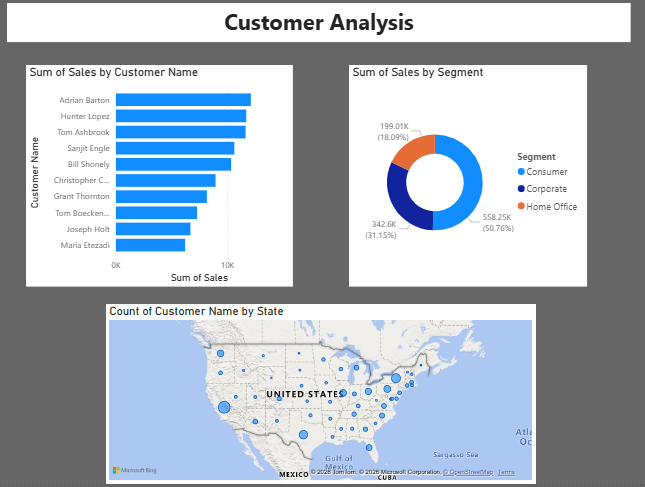

The page's visual inventory and layout, read from the dashboard file:
{"tool":"powerbi","page":{"name":"Customer Analyis","canvas":[960,720],"ordinal":4},"visuals":[{"type":"clusteredBarChart","fields":{"Category":["Sample - Superstore.Customer Name"],"Y":["Sum(Sample - Superstore.Sales)"]},"box":[47.9,109.3,389.4,323.5],"z":0},{"type":"donutChart","fields":{"Category":["Sample - Superstore.Segment"],"Y":["Sum(Sample - Superstore.Sales)"]},"box":[518.2,109.3,347.5,323.5],"z":1},{"type":"map","fields":{"Category":["Sample - Superstore.State"],"Size":["CountNonNull(Sample - Superstore.Customer Name)"]},"box":[164.7,458.3,626,262.1],"z":2},{"type":"textbox","box":[21,19.5,909.1,56.9],"z":3}]}

Visuals, with their boxes in screenshot pixels (x1, y1, x2, y2), scaled from the page's 960x720 canvas onto the 645x487 screenshot:
clusteredBarChart - Sample - Superstore.Customer Name x Sum(Sample - Superstore.Sales): x1=32, y1=74, x2=294, y2=293
donutChart - Sample - Superstore.Segment x Sum(Sample - Superstore.Sales): x1=348, y1=74, x2=582, y2=293
map - Sample - Superstore.State x CountNonNull(Sample - Superstore.Customer Name): x1=111, y1=310, x2=531, y2=486
textbox: x1=14, y1=13, x2=625, y2=52
